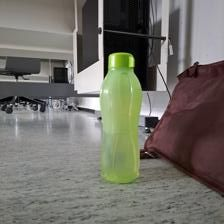bottle: (96, 49, 145, 184)
